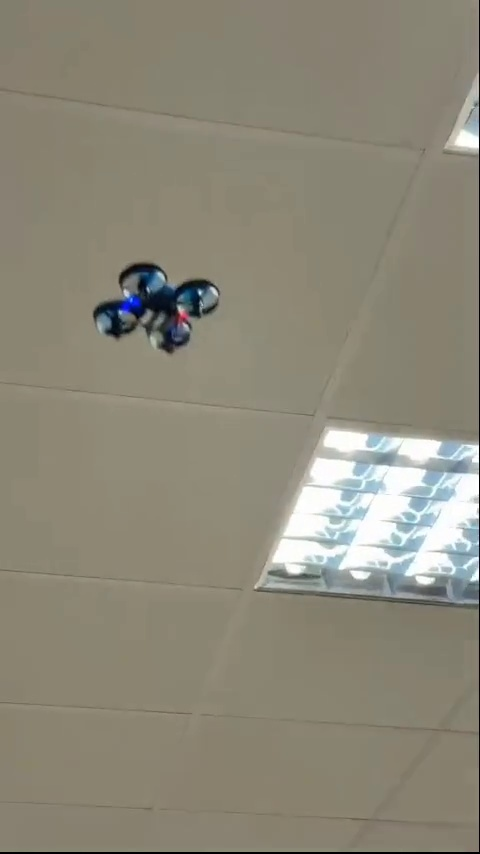drone: (86, 262, 222, 364)
